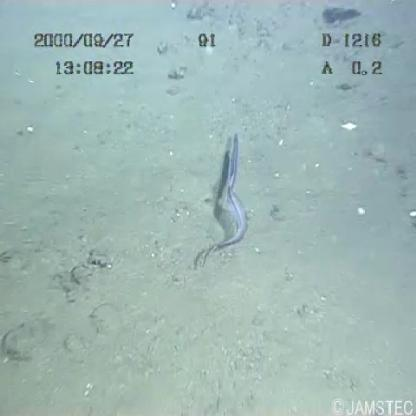Bio: (198, 120, 256, 268)
